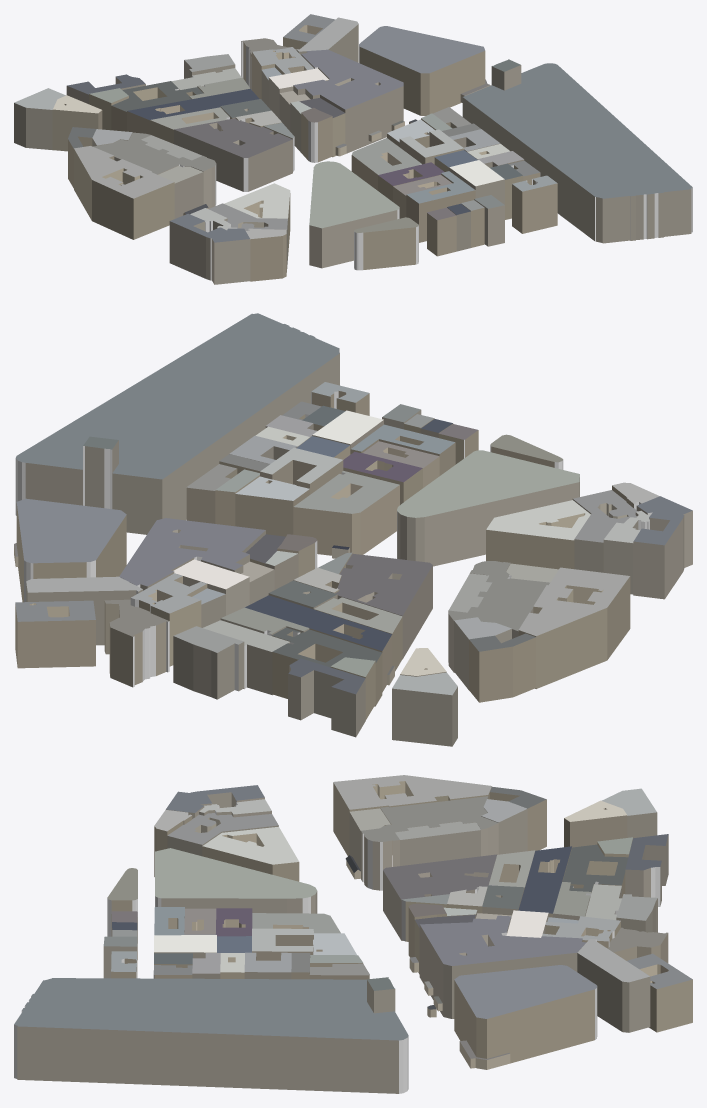
The picture shows the model from 3 angles, top to bottom: view 1: azimuth 30°, elevation 25°; view 2: azimuth 150°, elevation 25°; view 3: azimuth 270°, elevation 25°; orthographic projection. The views are drawn at different scales.
Visible parts, largest first — view 1: tuile; view 2: tuile; view 3: tuile.
Part boxes in pixels (x1,y1,x2,y2): tuile: (14,14,692,284); tuile: (14,313,692,746); tuile: (14,775,692,1093).
Size of the model in its own units: 290 by 40.25 by 308.
